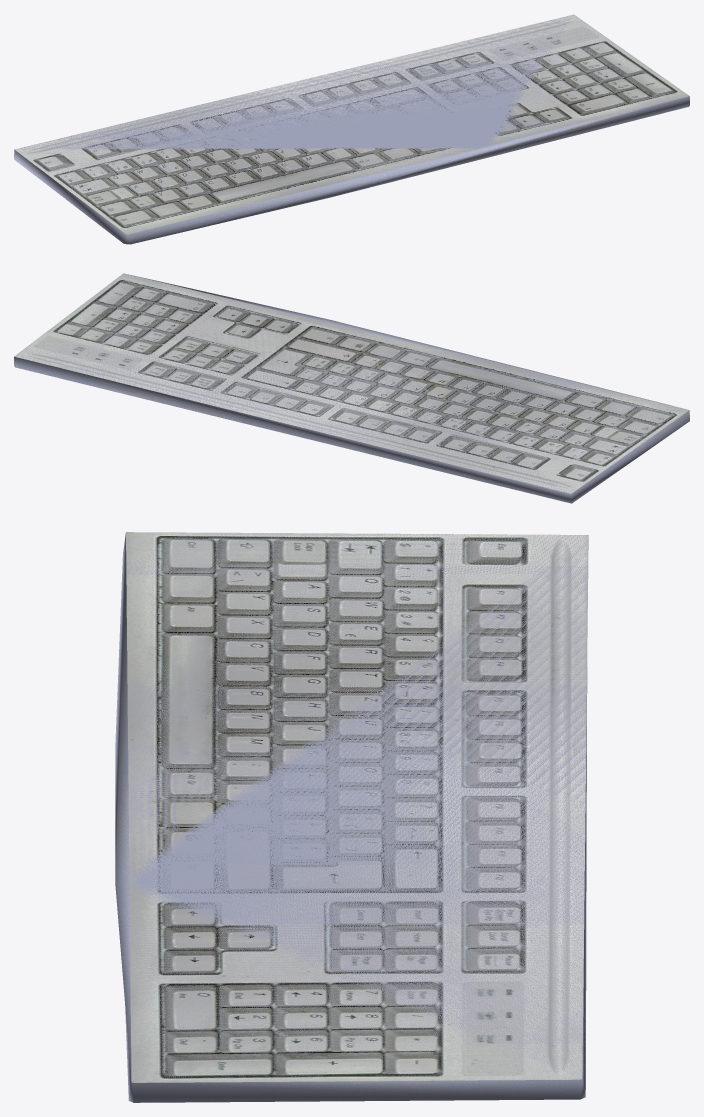
Rendered from Tastatur.fbx.
3 renders of one model, top to bottom at view 1: azimuth 30°, elevation 25°; view 2: azimuth 150°, elevation 25°; view 3: azimuth 270°, elevation 25°, orthographic. The views are drawn at different scales.
Visible parts, largest first — view 1: Model; view 2: Model; view 3: Model.
Boxes of the visible parts, x1,y1,x2,y2 form: Model: (14,14,689,244); Model: (14,273,689,503); Model: (115,532,588,1102).
Size of the model in its own units: 19.01 by 0.31 by 6.88.
